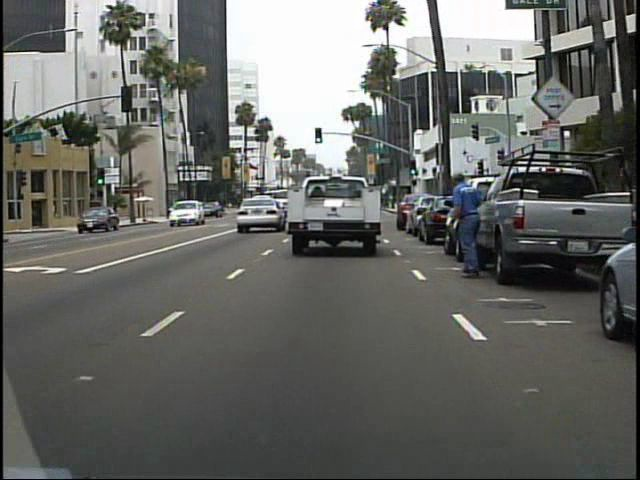person: (442, 170, 489, 281)
